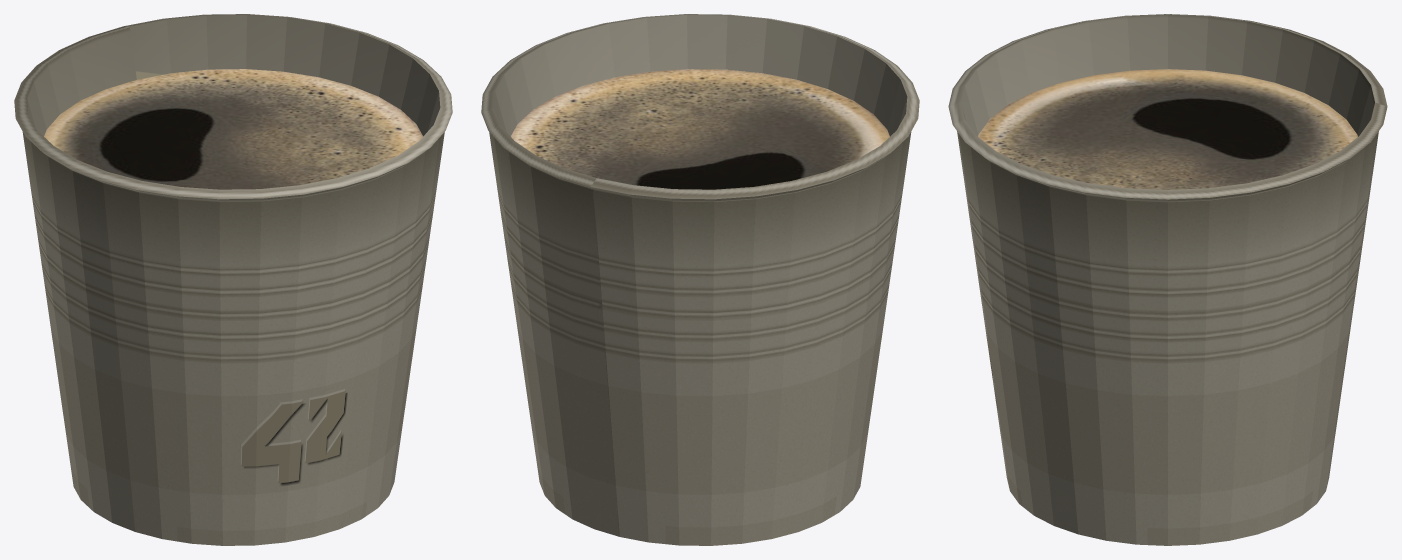
File: coffeCup.dae
3 views of the same model, side by side, from view 1: azimuth 30°, elevation 25°; view 2: azimuth 150°, elevation 25°; view 3: azimuth 270°, elevation 25° (orthographic).
Parts seen in each view (by area): view 1: Cylinder; view 2: Cylinder; view 3: Cylinder.
Part boxes in pixels (box(x1,y1,x2,y2)): Cylinder: box(14, 14, 452, 545); Cylinder: box(481, 14, 919, 545); Cylinder: box(948, 14, 1387, 545).
Size of the model in its own units: 0.9853 by 0.9853 by 0.9296.
Materials: 1 (1 with a texture image).
